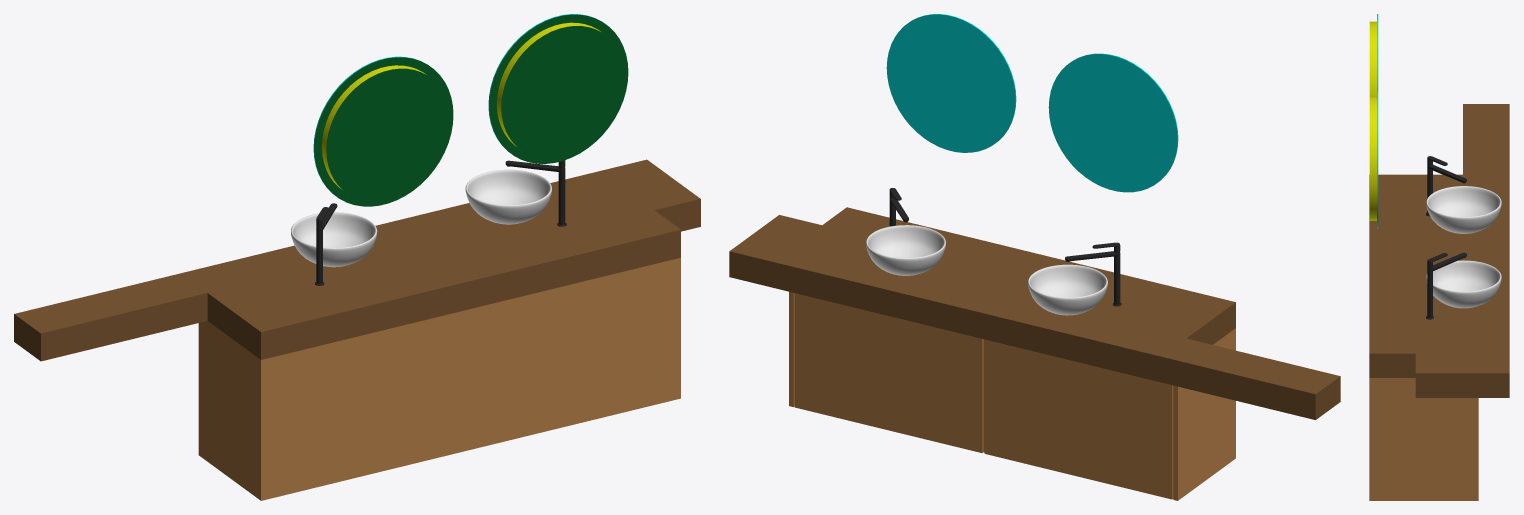
The model's file is CommodeBath01.fbx.
3 renders of one model, left to right at view 1: azimuth 30°, elevation 25°; view 2: azimuth 150°, elevation 25°; view 3: azimuth 270°, elevation 25°, orthographic. The views are drawn at different scales.
Visible parts, largest first — view 1: BottomBath01, TopBath01, MirrorRoundRBath01, MirrorRoundLBath01, LavaboRedondoRBath01, LavaboRedondoLBath01, TapRBath01; view 2: BottomBath01, TopBath01, MirrorRoundLBath01, MirrorRoundRBath01, LavaboRedondoLBath01, LavaboRedondoRBath01, TapLBath01; view 3: TopBath01, BottomBath01, LavaboRedondoLBath01, LavaboRedondoRBath01, MirrorRoundLBath01, MirrorRoundRBath01, TapRBath01, TapLBath01.
Boxes of the visible parts, left/top/right/bottom form: BottomBath01: left=198, top=257, right=680, bottom=500; TopBath01: left=14, top=159, right=700, bottom=361; MirrorRoundRBath01: left=313, top=56, right=453, bottom=206; MirrorRoundLBath01: left=488, top=14, right=628, bottom=163; LavaboRedondoRBath01: left=465, top=169, right=551, bottom=224; LavaboRedondoLBath01: left=291, top=212, right=377, bottom=267; TapRBath01: left=505, top=160, right=565, bottom=224; BottomBath01: left=789, top=291, right=1235, bottom=500; TopBath01: left=729, top=207, right=1340, bottom=419; MirrorRoundLBath01: left=886, top=14, right=1016, bottom=152; MirrorRoundRBath01: left=1048, top=53, right=1178, bottom=192; LavaboRedondoLBath01: left=1028, top=264, right=1107, bottom=315; LavaboRedondoRBath01: left=866, top=225, right=945, bottom=275; TapLBath01: left=1065, top=242, right=1120, bottom=304; TopBath01: left=1369, top=104, right=1509, bottom=397; BottomBath01: left=1369, top=378, right=1478, bottom=500; LavaboRedondoLBath01: left=1426, top=186, right=1501, bottom=233; LavaboRedondoRBath01: left=1426, top=260, right=1501, bottom=308; MirrorRoundLBath01: left=1369, top=88, right=1378, bottom=228; MirrorRoundRBath01: left=1369, top=14, right=1378, bottom=96; TapRBath01: left=1427, top=252, right=1466, bottom=317; TapLBath01: left=1427, top=156, right=1466, bottom=214.
Bounding box in the file's own units: 273 × 168 × 60.03.
